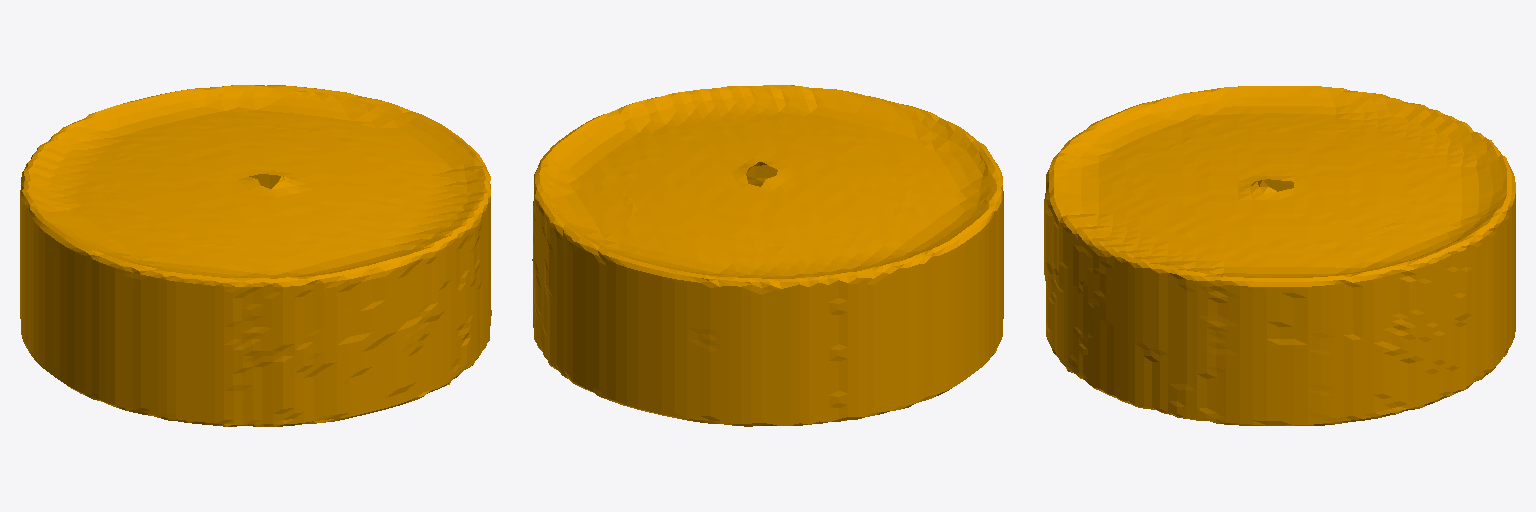
robot.urdf — ceiling_lamp_15650_object1:
<robot name="ceiling_lamp_15650_object1">
	<link name="_name">
		<visual>
			<origin xyz="-0.0156062594810349 0.049139367304858406 -1.1820493662964786" rpy="0.0 0.0 0.0" />
			<geometry>
				<mesh filename="ceiling_lamp_15650_object1.obj" />
			</geometry>
		</visual>
		<collision>
			<origin rpy="0.0 0.0 0.0" xyz="-0.0156062594810349 0.049139367304858406 -1.1820493662964786" />
			<geometry>
				<mesh filename="ceiling_lamp_15650_object1_vhacd.obj" />
			</geometry>
		</collision>
		<inertial>
			<origin rpy="0 0 0" xyz="0 0 0" />
			<mass value="1.0" />
			<inertia ixx="0.001" ixy="0.0" ixz="0.0" iyy="0.001" iyz="0.0" izz="0.001" />
		</inertial>
	</link>
</robot>

--- Facts derived from the render (not from the file) ---
The picture shows the robot from 3 angles, left to right: view 1: azimuth 30°, elevation 25°; view 2: azimuth 150°, elevation 25°; view 3: azimuth 270°, elevation 25°; orthographic projection.
Model ceiling_lamp_15650_object1 with 1 links and 0 joints (none), rooted at _name, posed all joints at 0.
Links seen in each view (by area): view 1: _name; view 2: _name; view 3: _name.
Boxes of the visible links, box(x1,y1,x2,y2) form: _name: box(20, 85, 491, 426); _name: box(532, 85, 1003, 426); _name: box(1044, 86, 1515, 425).
Size in the robot's own frame: 0.5 by 0.5 by 0.199 metres.
Meshes: 1 distinct files referenced, 1 mesh visuals loaded (1 OBJ).